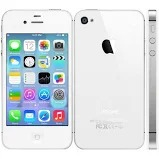iphone: (1, 7, 75, 150)
iphone5: (1, 8, 75, 151)
